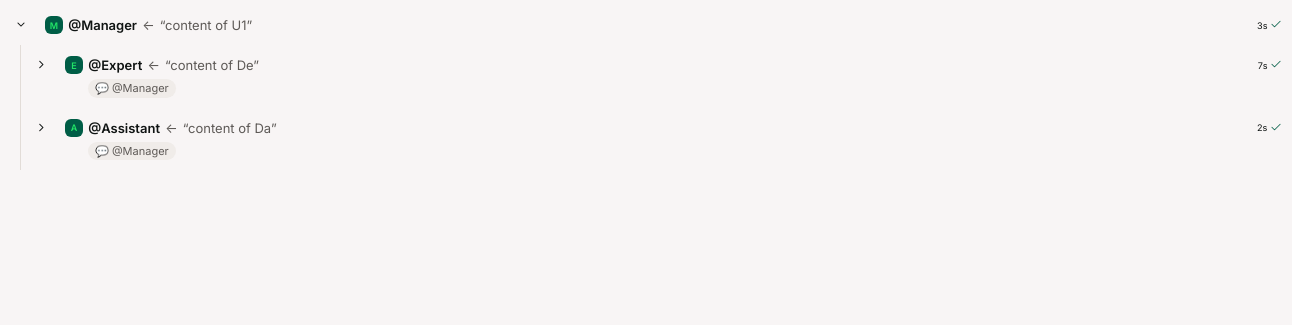
it: TraceTreeComponent › case 3: the join shows on both sides, each side quoting the message
Step 1. Click the button with class "node-chevron" in the row of "7s" → (41, 65), box left=32, top=55, right=50, bottom=75
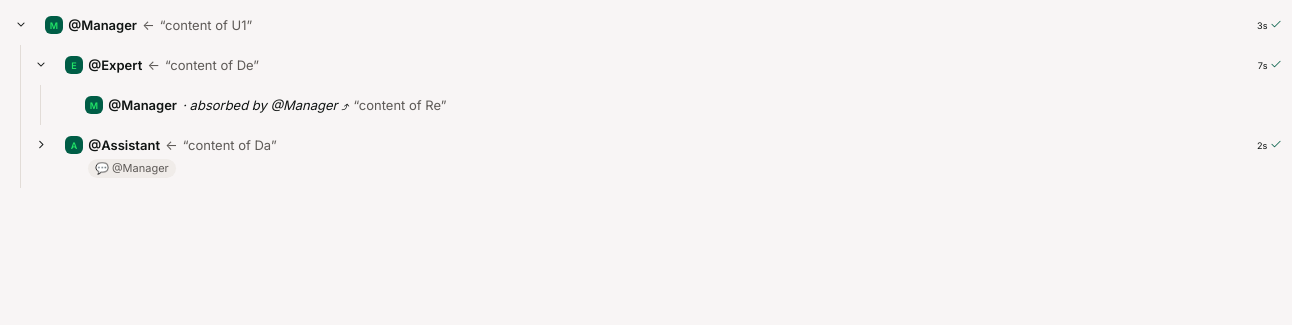
Expected: the text "@Manager" in the row of "3s" is shown, left=68, top=17, right=137, bottom=33
Result: the text with class "node-leaf-label" reads "· absorbed by @Manager ⤴" at left=182, top=96, right=348, bottom=112
Result: the text with class "node-excerpt" reads "“content of Re”" at left=354, top=97, right=446, bottom=113
Step 2. Click the 3rd button with class "node-chevron" → (41, 145), box left=32, top=135, right=50, bottom=155
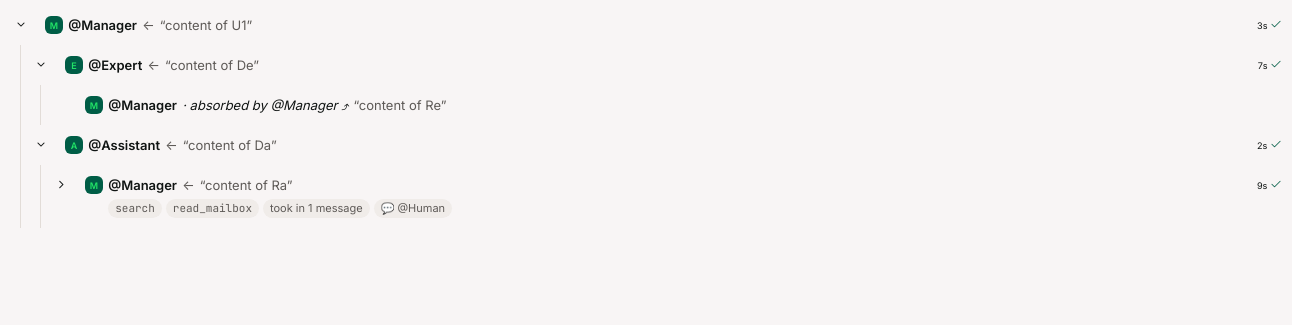
Step 3. Click the 4th button with class "node-chevron" → (61, 185), box left=52, top=175, right=70, bottom=195
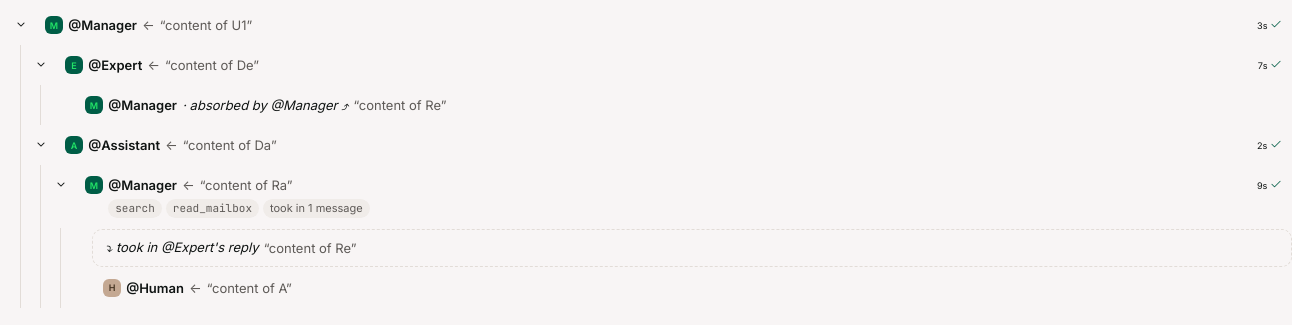
Result: the 1st text with class "node-excerpt" reads "“content of Re”" at left=354, top=97, right=446, bottom=113
Result: the text with class "node-leaf-label" reads "⤵ took in @Expert's reply" at left=105, top=239, right=258, bottom=255
